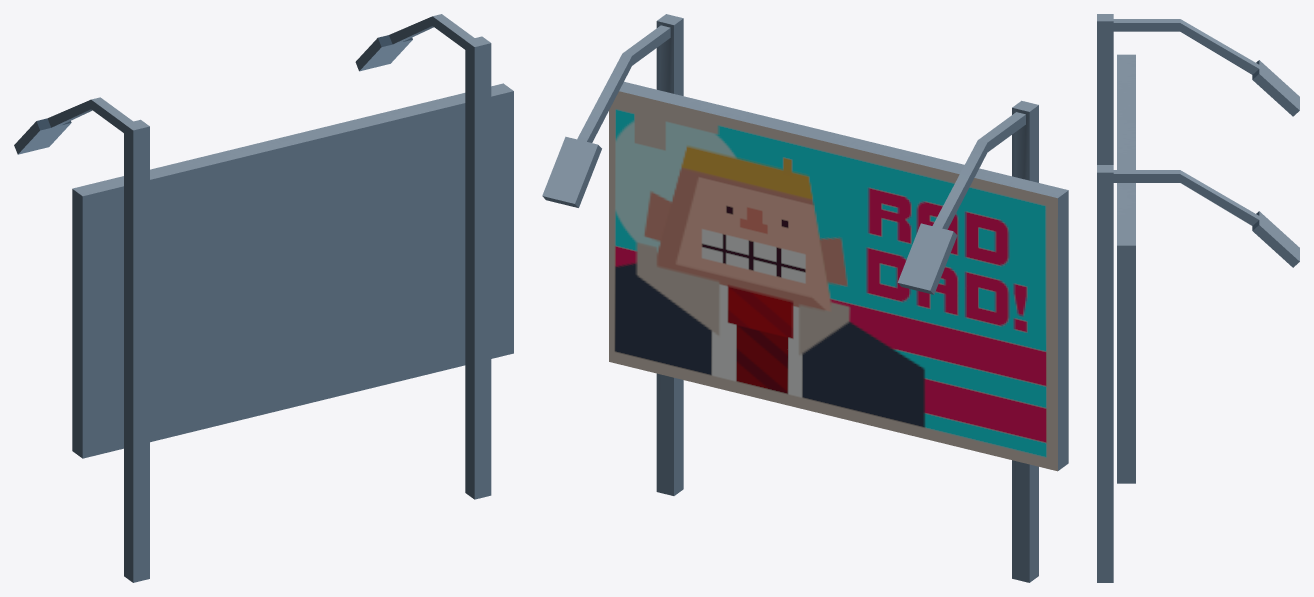
Rendered from billboard_mesh.fbx.
The picture shows the model from 3 angles, left to right: view 1: azimuth 30°, elevation 25°; view 2: azimuth 150°, elevation 25°; view 3: azimuth 270°, elevation 25°; orthographic projection. The views are drawn at different scales.
Parts seen in each view (by area): view 1: billboard_mesh; view 2: billboard_mesh; view 3: billboard_mesh.
Boxes of the visible parts, x1=… form: billboard_mesh: x1=14, y1=14, x2=513, y2=582; billboard_mesh: x1=542, y1=14, x2=1068, y2=582; billboard_mesh: x1=1097, y1=14, x2=1299, y2=582.
Bounding box in the file's own units: 5.05 × 5.06 × 2.27.
